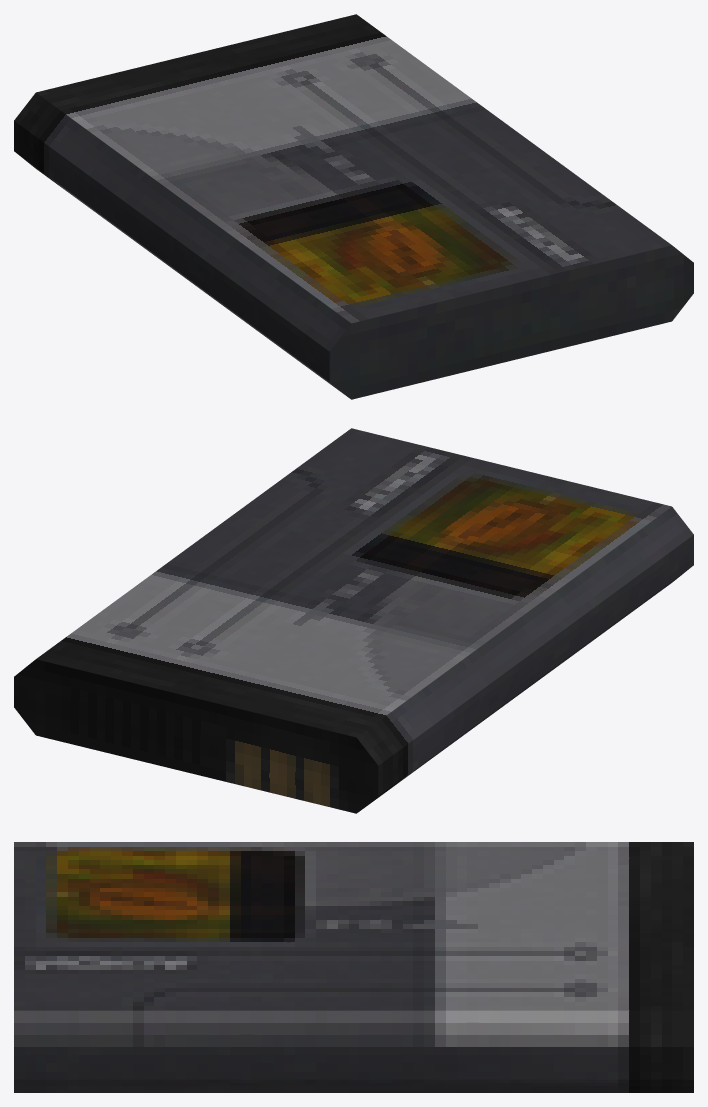
Rendered from cell_phone_battery_2_1.glb.
3 renders of one model, top to bottom at view 1: azimuth 30°, elevation 25°; view 2: azimuth 150°, elevation 25°; view 3: azimuth 270°, elevation 25°, orthographic. The views are drawn at different scales.
Visible parts, largest first — view 1: cell_phone_battery_2_1; view 2: cell_phone_battery_2_1; view 3: cell_phone_battery_2_1.
Part boxes in pixels (<box>): cell_phone_battery_2_1: <box>14,14,693,399</box>; cell_phone_battery_2_1: <box>14,428,693,813</box>; cell_phone_battery_2_1: <box>14,842,693,1092</box>.
Size of the model in its own units: 0.06 by 0.012 by 0.09.
Materials: 1 (1 with a texture image).
